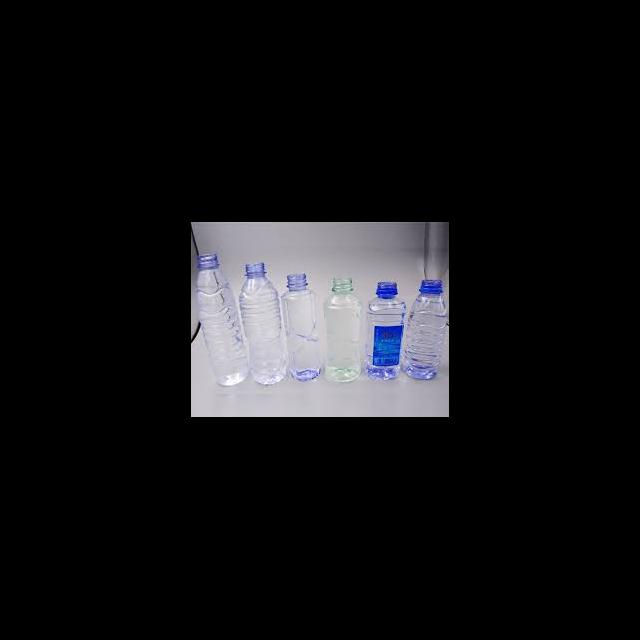plastic: (195, 252, 246, 386), (237, 262, 287, 384), (279, 272, 321, 380), (400, 280, 445, 380), (323, 278, 363, 382), (365, 282, 406, 379)
